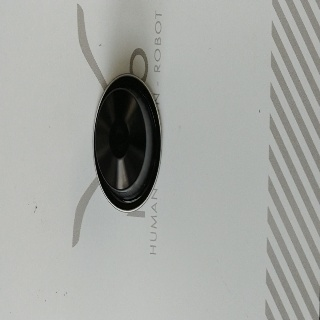capsule_10: (92, 72, 162, 213)
